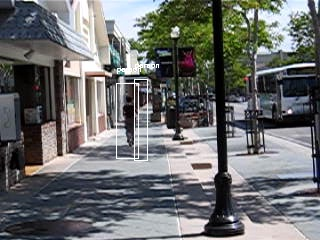person: (123, 96, 140, 147), (122, 96, 139, 147), (124, 96, 141, 147), (123, 95, 140, 146), (123, 97, 140, 148)
target_negative: (12, 184, 184, 215), (96, 8, 109, 213), (145, 58, 228, 72), (7, 25, 13, 95), (58, 209, 298, 210), (310, 205, 316, 231)
